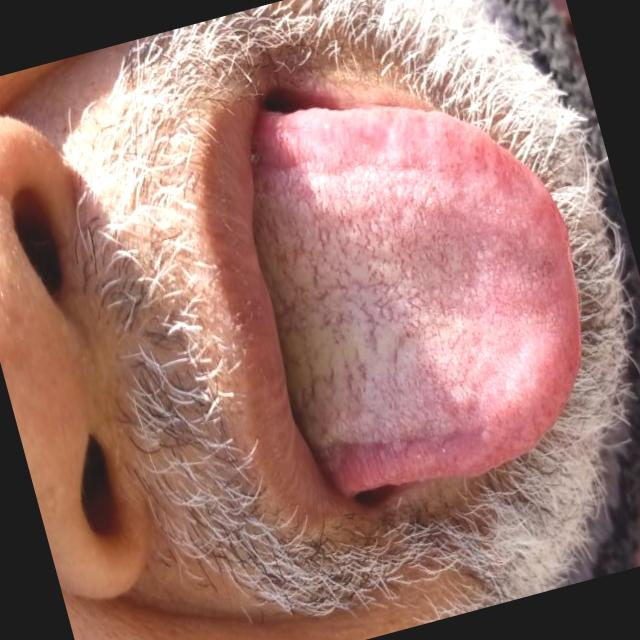No Cancer: (389, 156, 558, 394)
